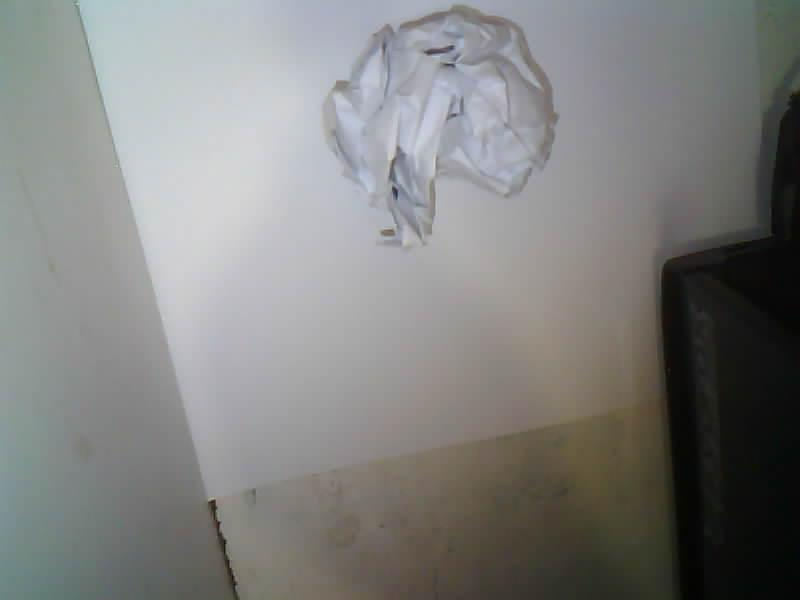biodegradable: (324, 6, 556, 246)
